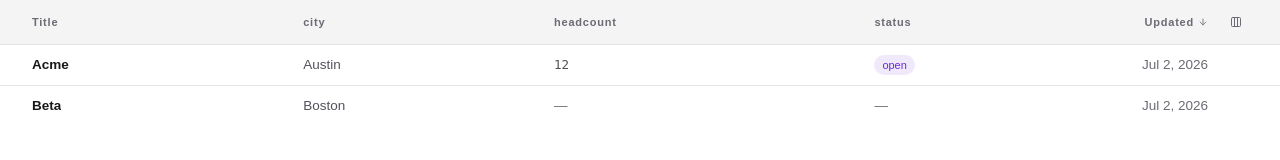
Test: TableLayout › REVERTS VISIBLY and shows an inline conflict affordance when the write is lost
Step 1. Click the button with aria-label "Edit " → point(413, 65), box [303,51,522,79]
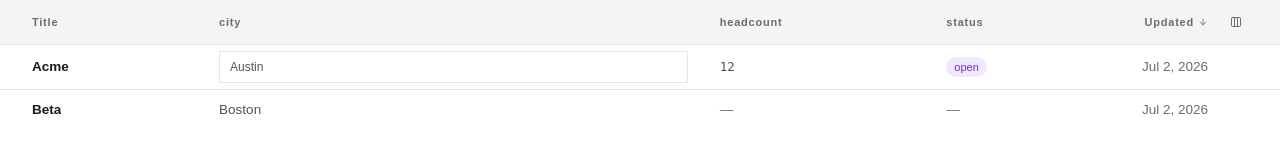
Step 2. Replace the text in the field showing "Austin" with "Boulder" → point(453, 67), box [219,51,688,83]
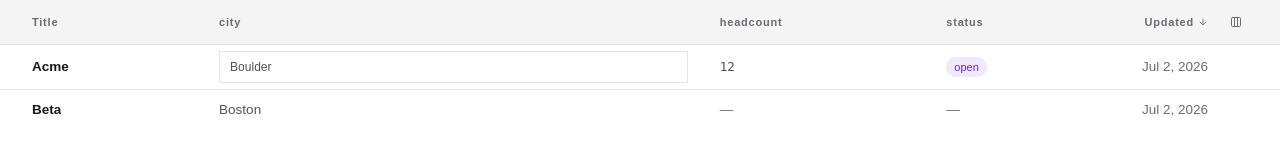
Step 3. Press Enter in the field showing "Austin", box [219,51,688,83]
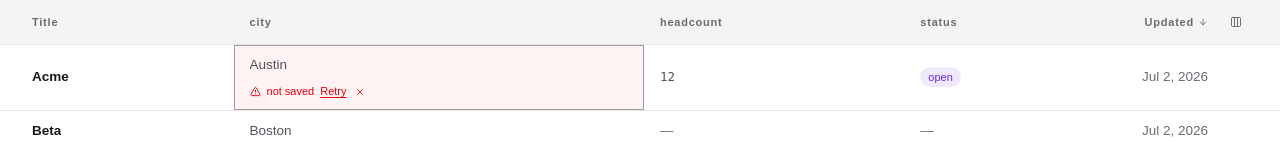
Now the text "not saved" is shown, box [266,83,314,100]
Now the element named "city of Acme" shows "Austin", box [250,51,628,79]
Now the button "Retry" is shown, box [320,83,346,100]
